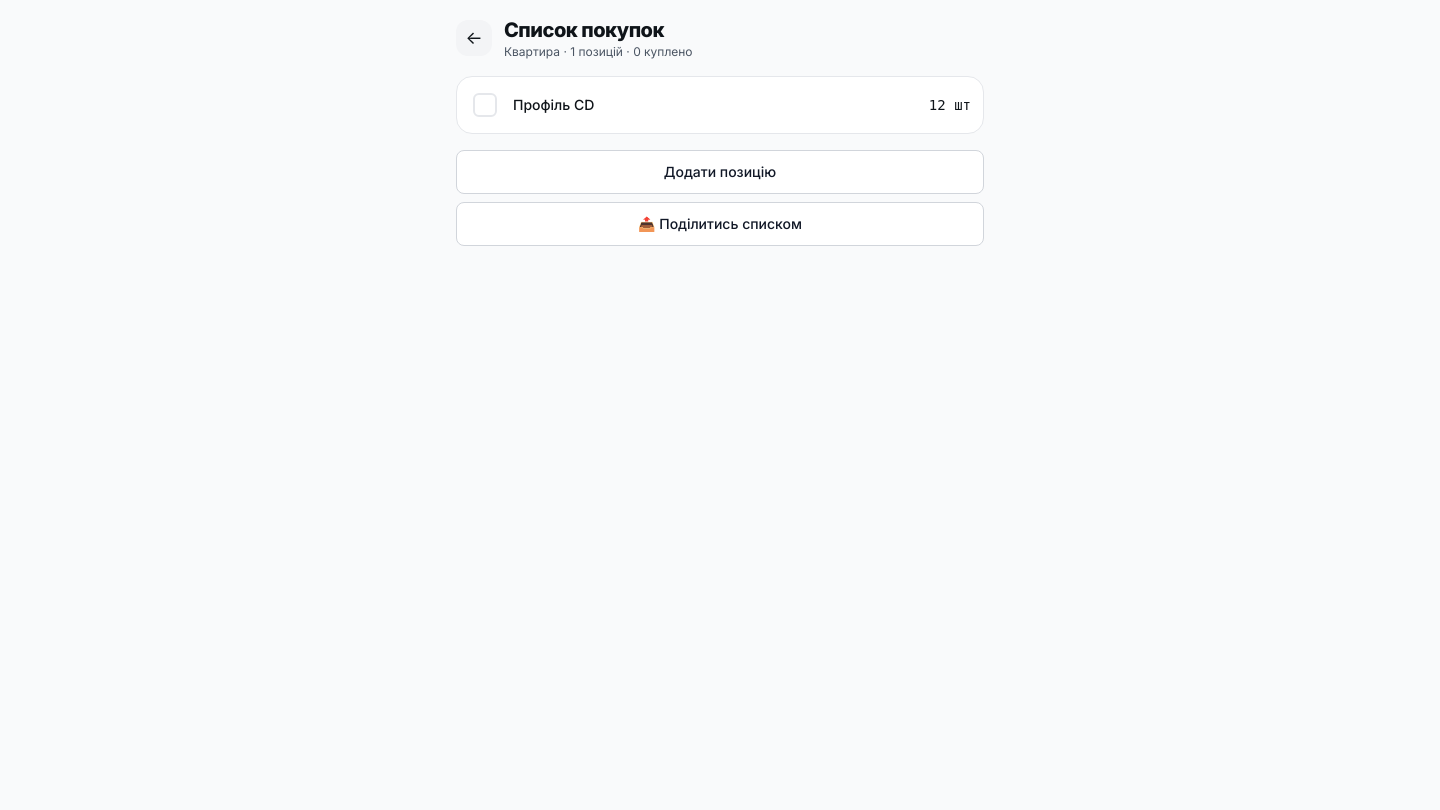
Test case: ShoppingListPage › drops an abandoned edit — reopening the row shows the real quantity, not the typed one
Step 1. Click the text "Профіль CD" → (554, 104), box left=513, top=96, right=594, bottom=113
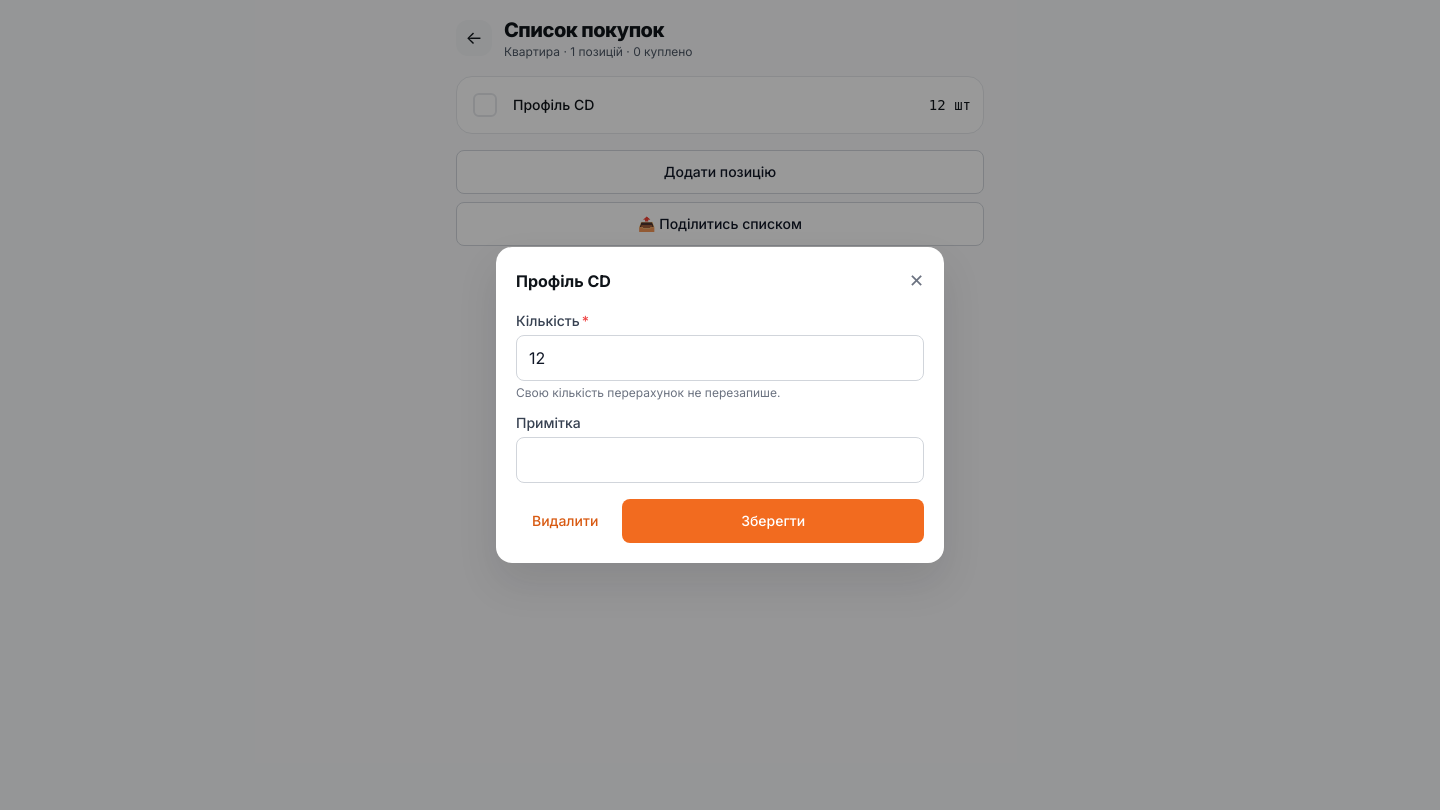
Expected: the field with id "sl-edit-qty" holds "12"
Step 2. Replace the text in the field with id "sl-edit-qty" with "7" → (720, 358), box left=516, top=335, right=924, bottom=381
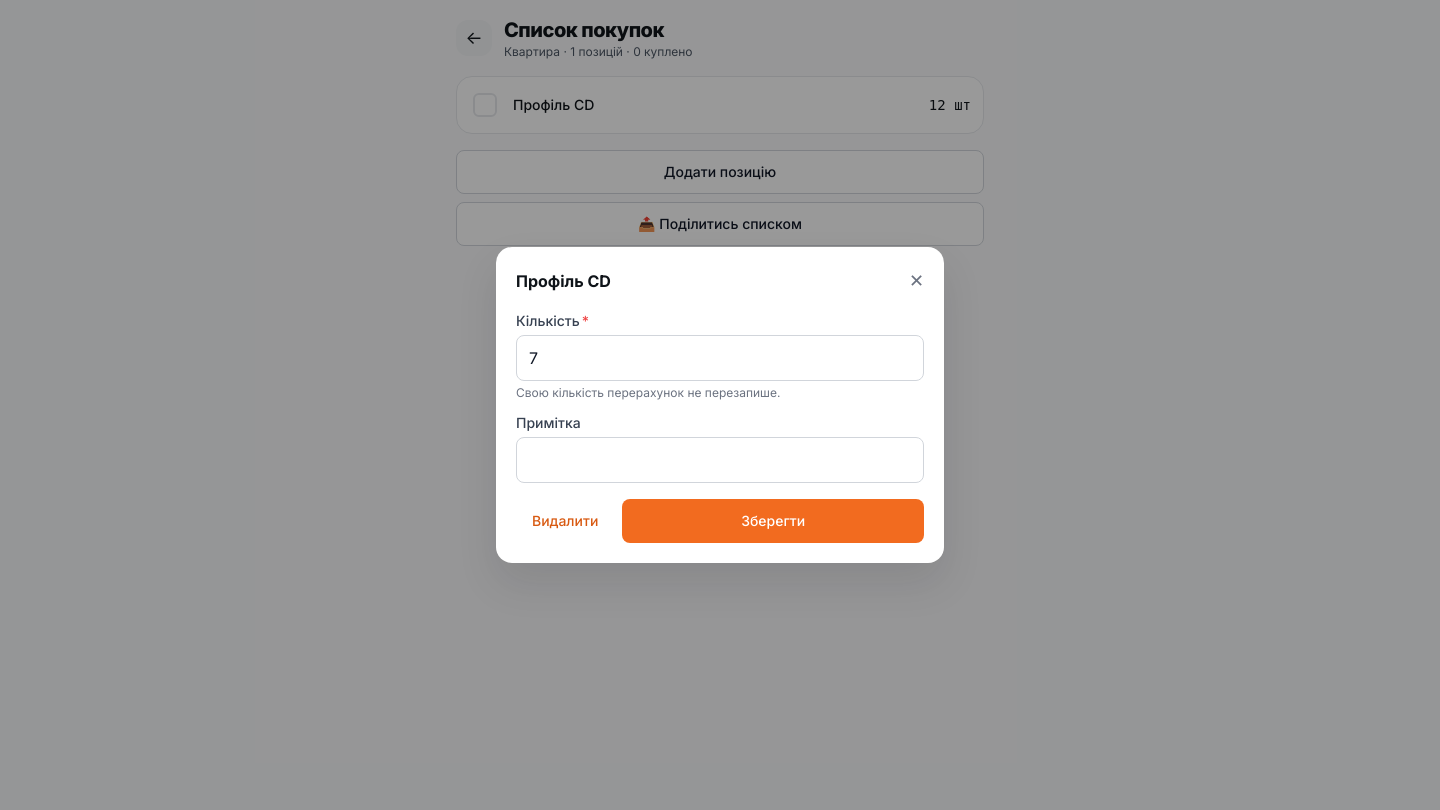
Note: The ✕ abandons the edit outright (the backdrop would ask «Скасувати зміни?» first, review P1-1).
Step 3. Click the button named "Закрити" → (916, 281), box left=909, top=267, right=924, bottom=295
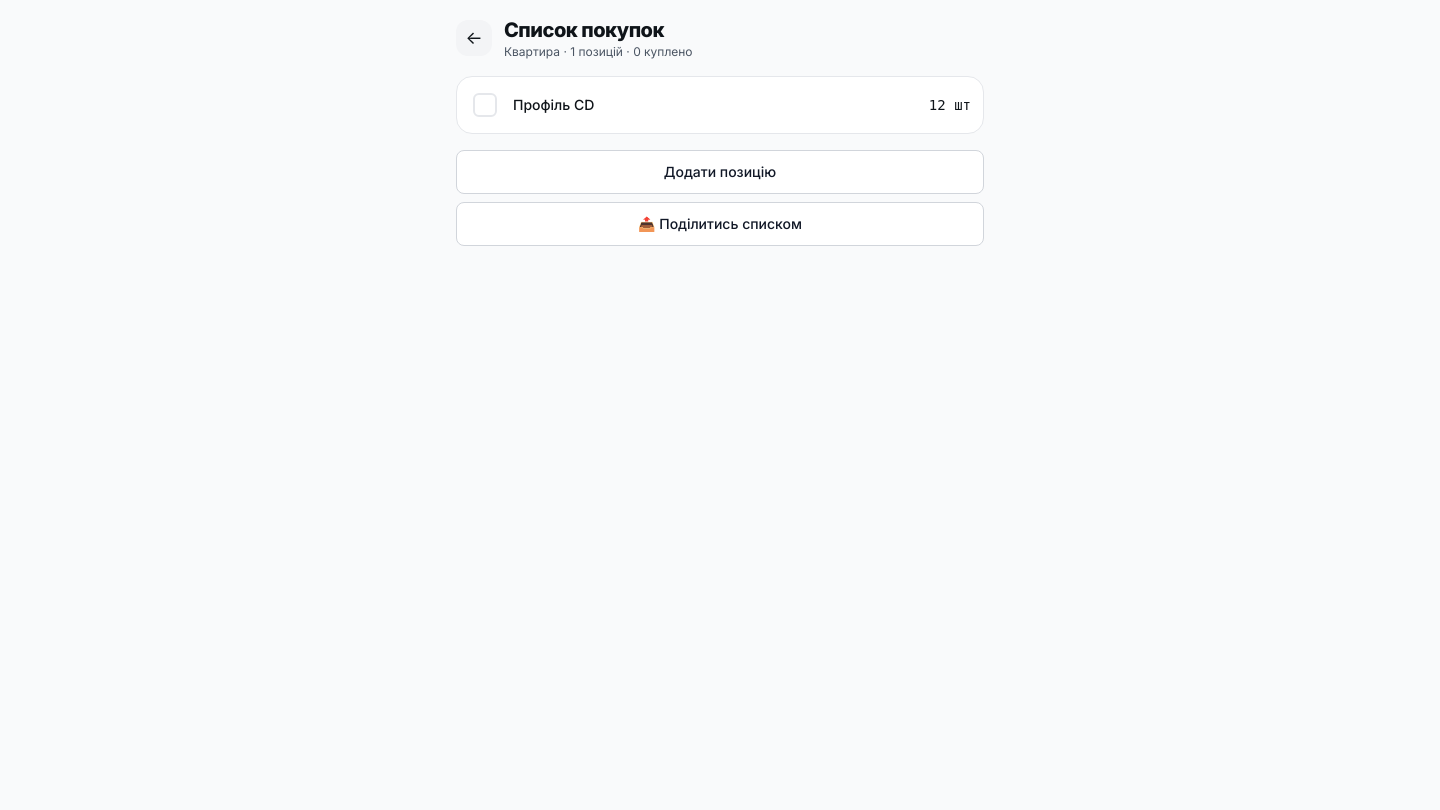
Step 4. Click the text "Профіль CD" → (554, 104), box left=513, top=96, right=594, bottom=113
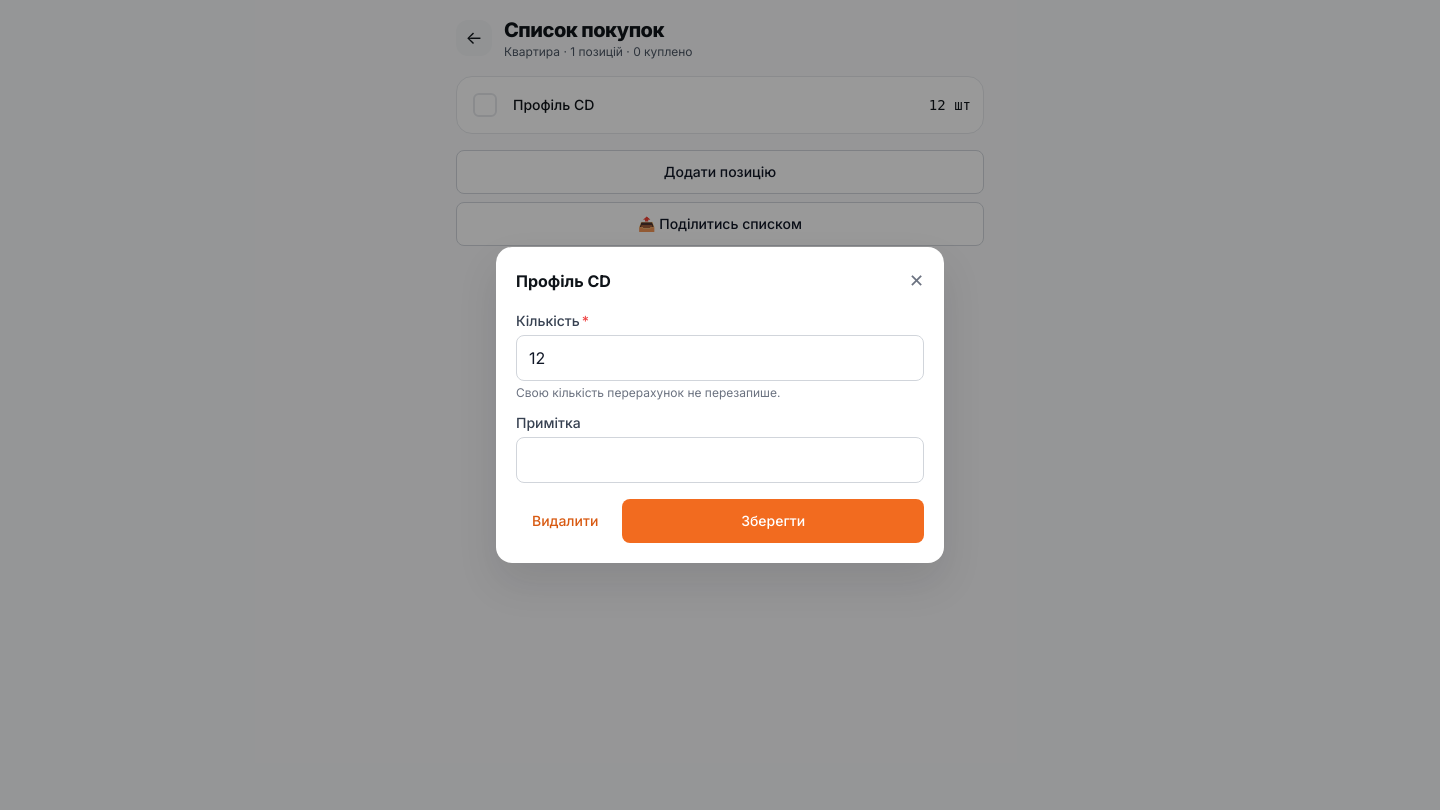
Expected: the field with id "sl-edit-qty" holds "12", left=516, top=335, right=924, bottom=381
